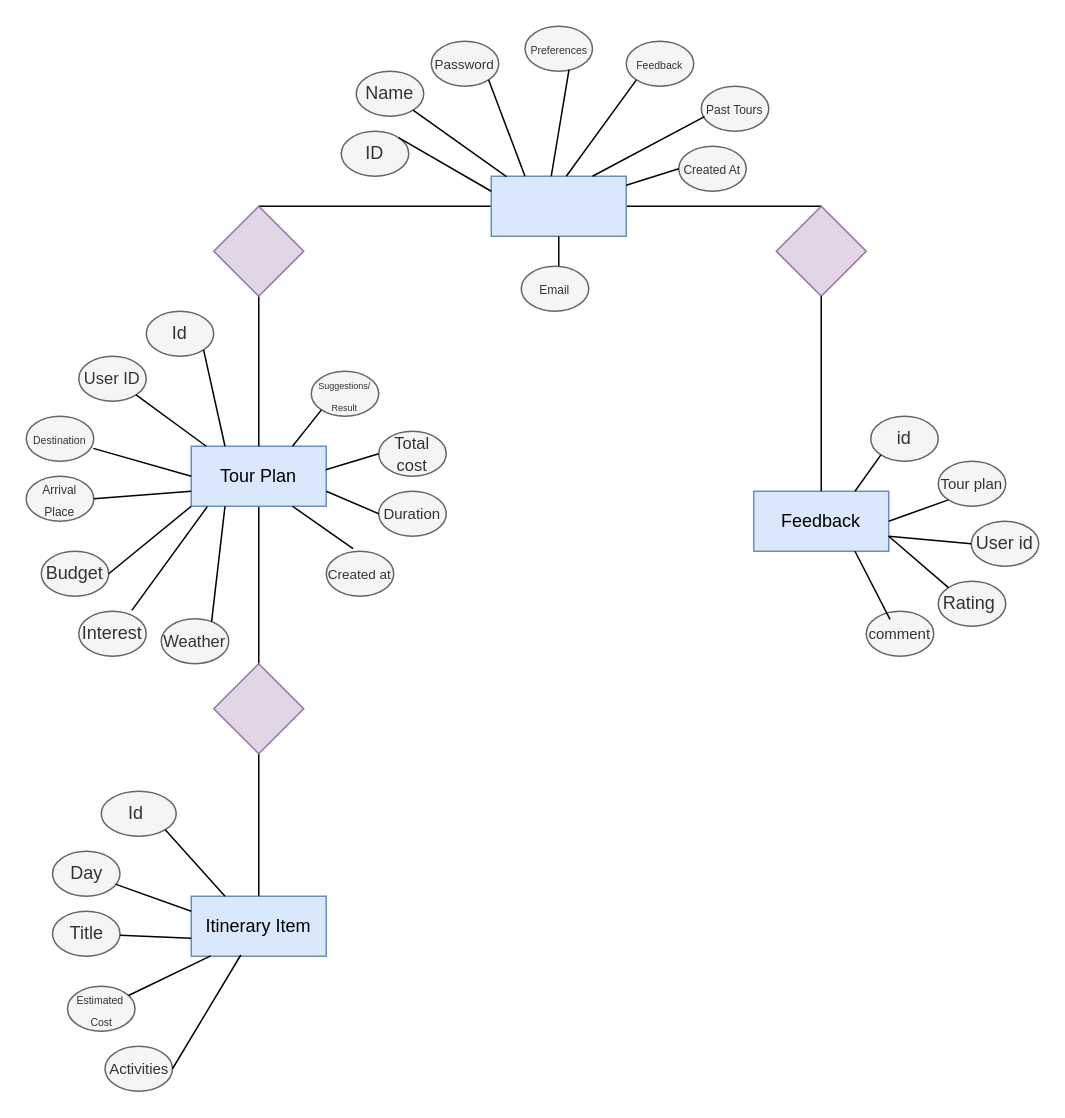
Some shapes in this 1065 by 1118 pixel diagram are drawn without their labels. The shapes that lost their labels are listed below. From the top down, each one's centre as x and y in pixels, then its label:
the point at 558,205: User
the point at 258,250: Owns
the point at 820,250: Provides
the point at 258,708: Contains
